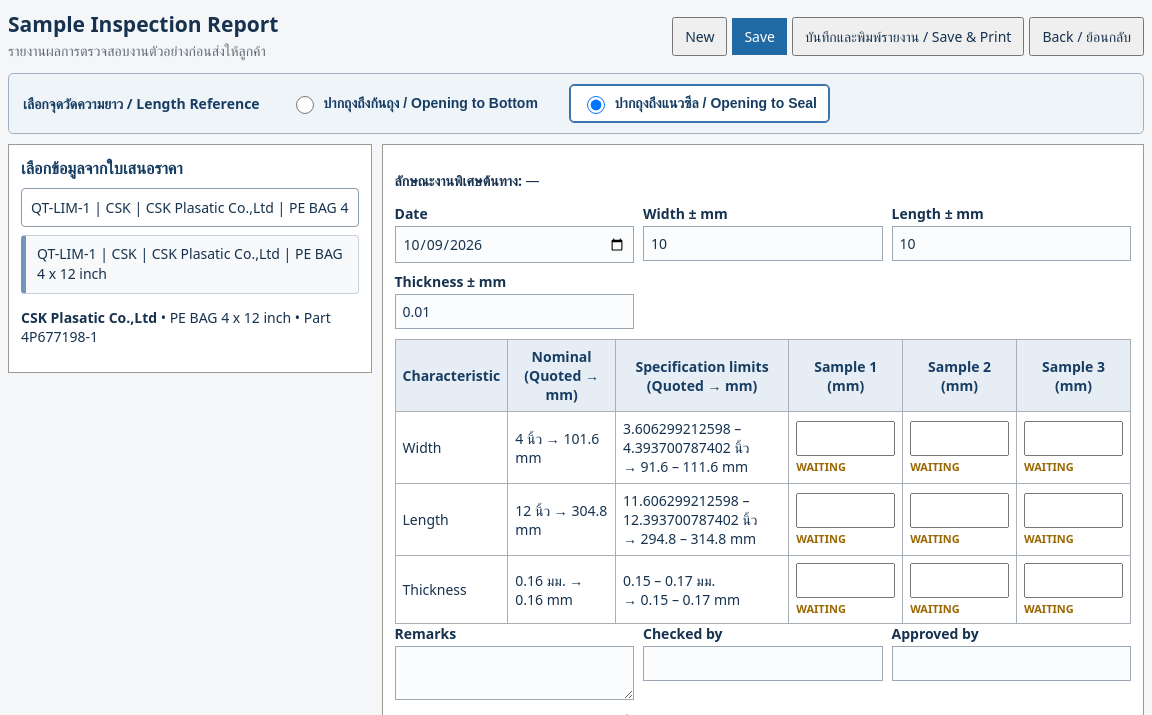
Test: sample inspection limits on screen › a reading exactly on every limit shows PASS (0.17 - 0.16 is 0.010000000000000009)
Type "111.6" into the 1st number field. click: (846, 438)
box: [796,421,895,456]
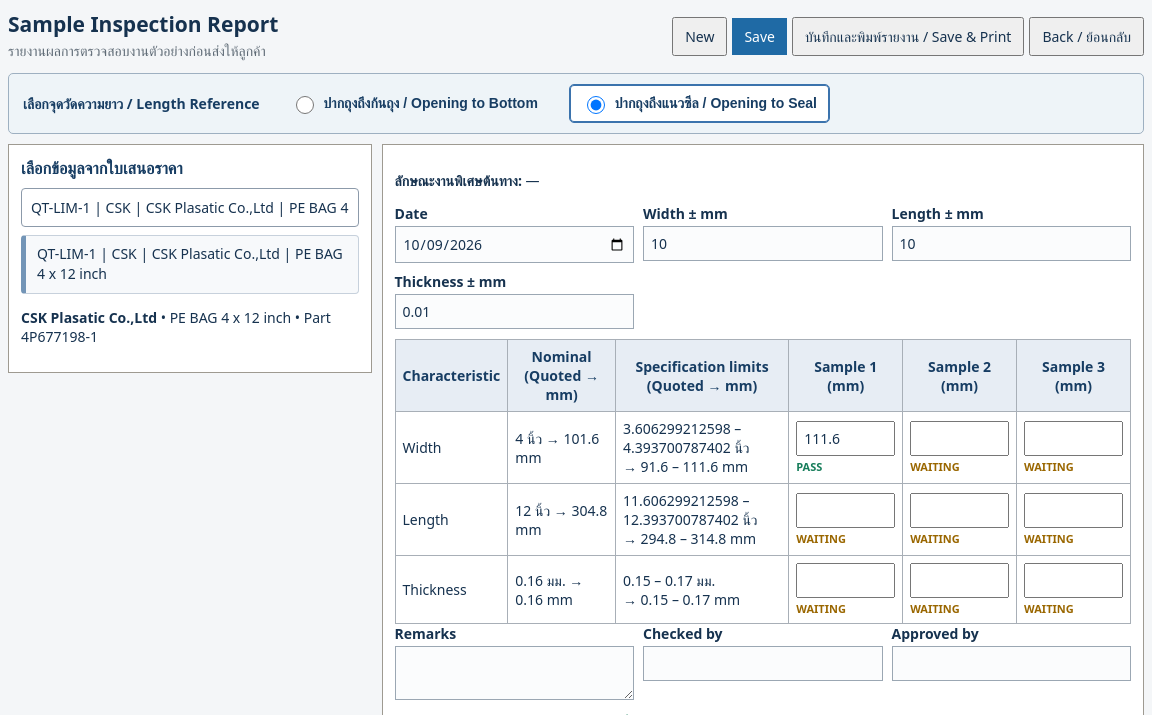
Type "294.8" into the 4th number field. click: (846, 510)
box: [796,493,895,528]
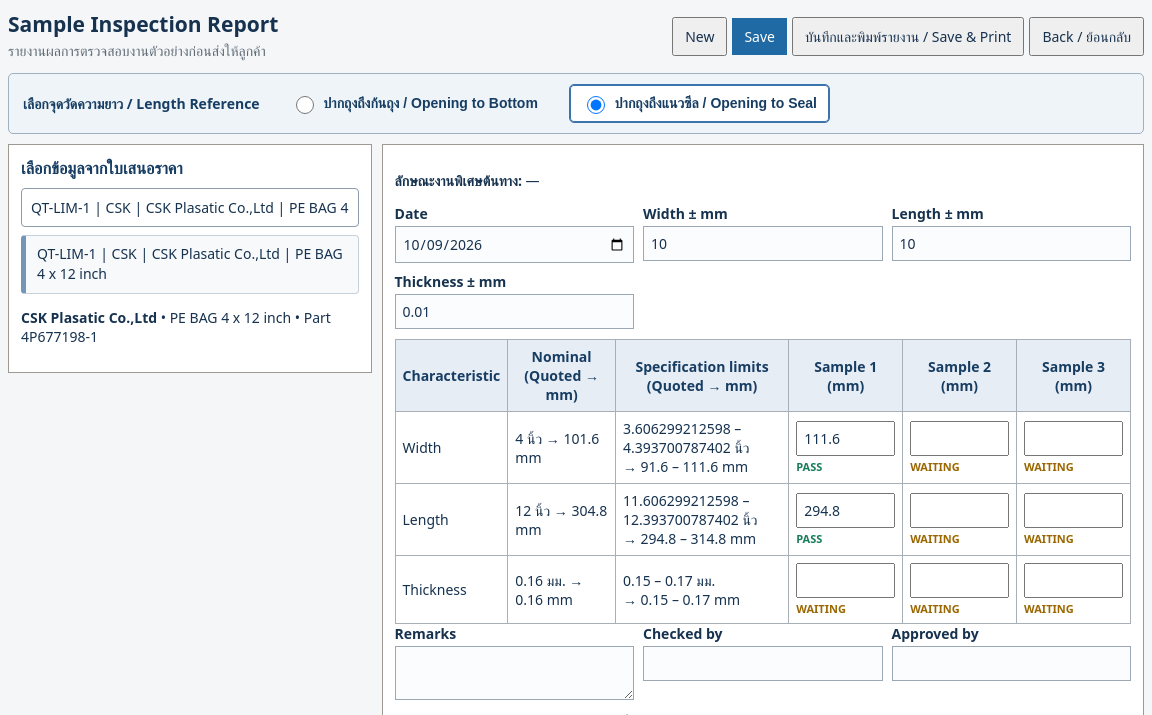
Type "0.17" into the 7th number field. click: (846, 580)
box: [796,563,895,598]
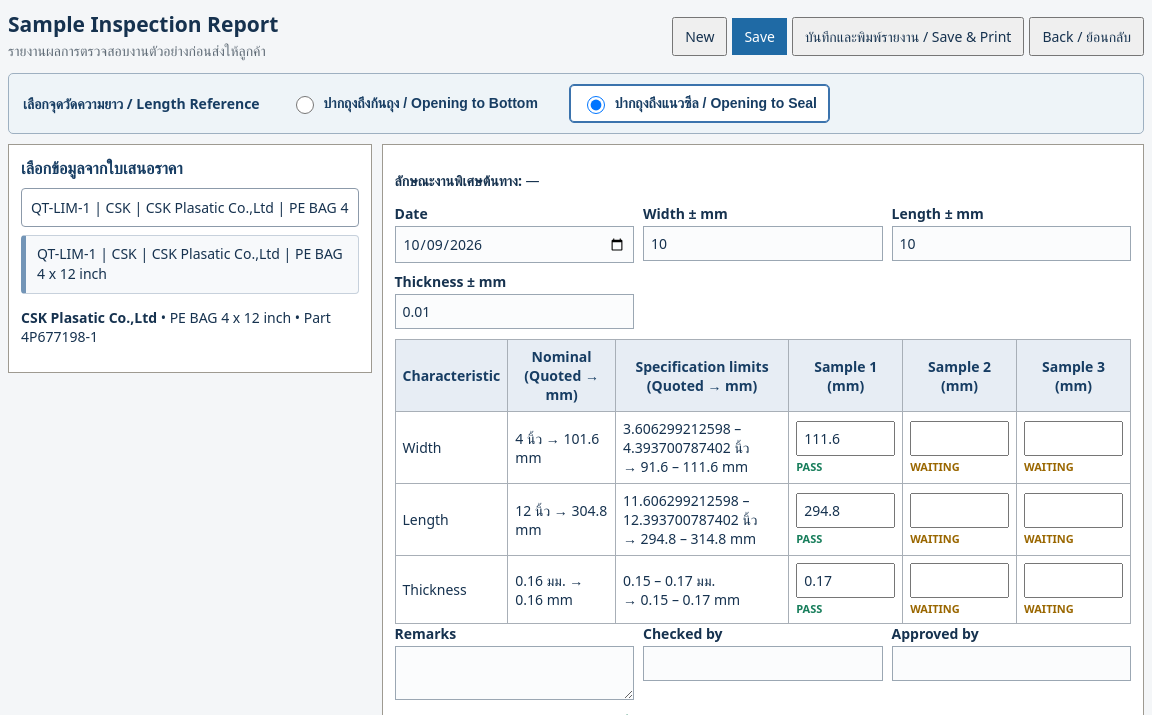
Type "0.15" into the 9th number field. click: (1074, 580)
box: [1024,563,1123,598]
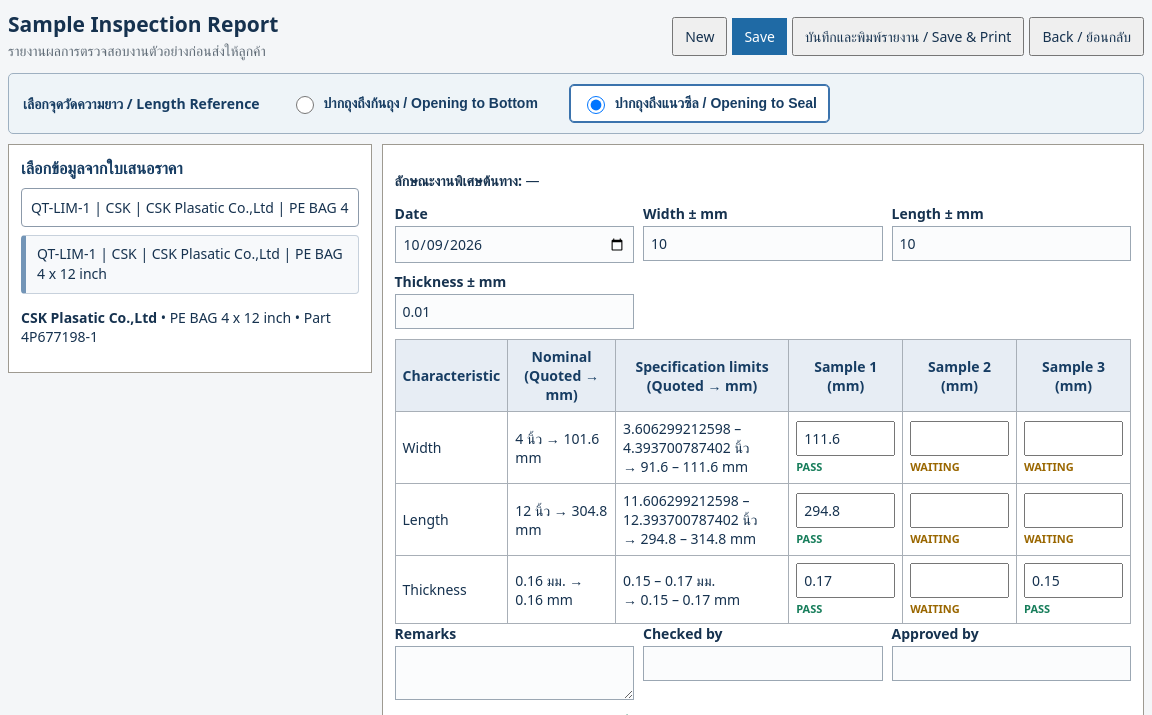
Result: the text "PASS" is shown 4 times at [796,459,822,474]; [796,531,822,546]; [796,601,822,616]; [1024,601,1050,616]
